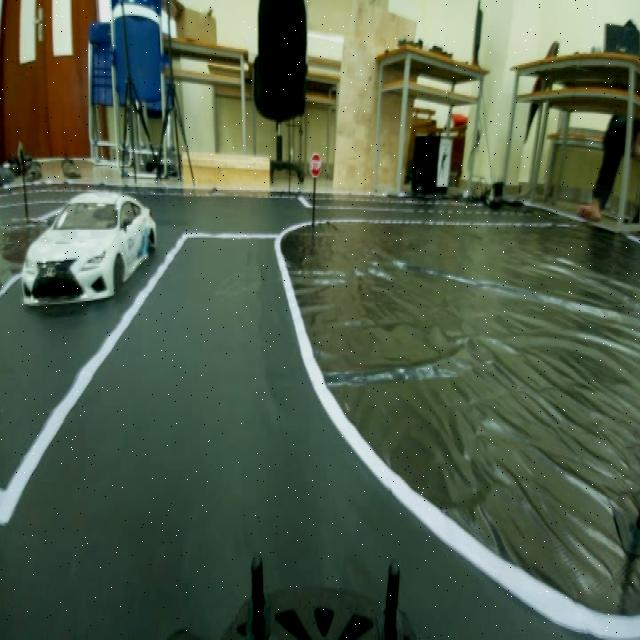car: (24, 182, 157, 312)
stop: (306, 147, 322, 176)
